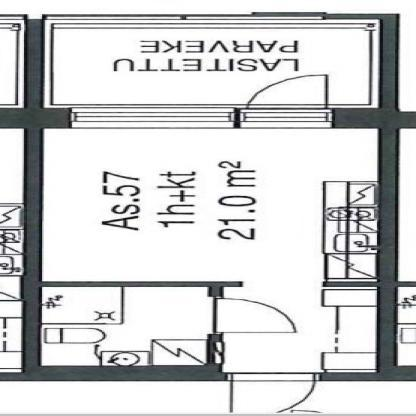door: (233, 73, 350, 132), (220, 368, 319, 414), (202, 292, 300, 337)
window: (60, 103, 240, 132)
